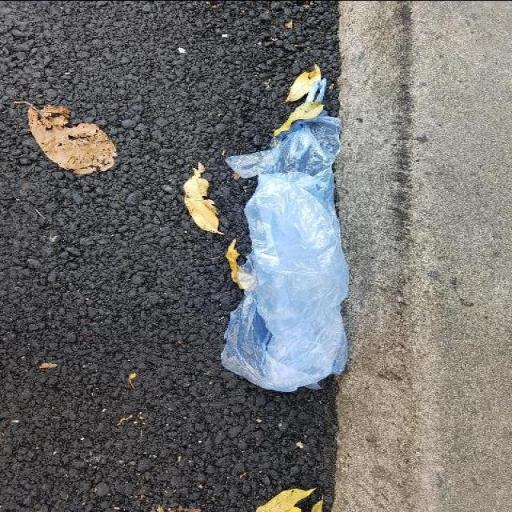plastic-bag: (222, 73, 353, 394)
